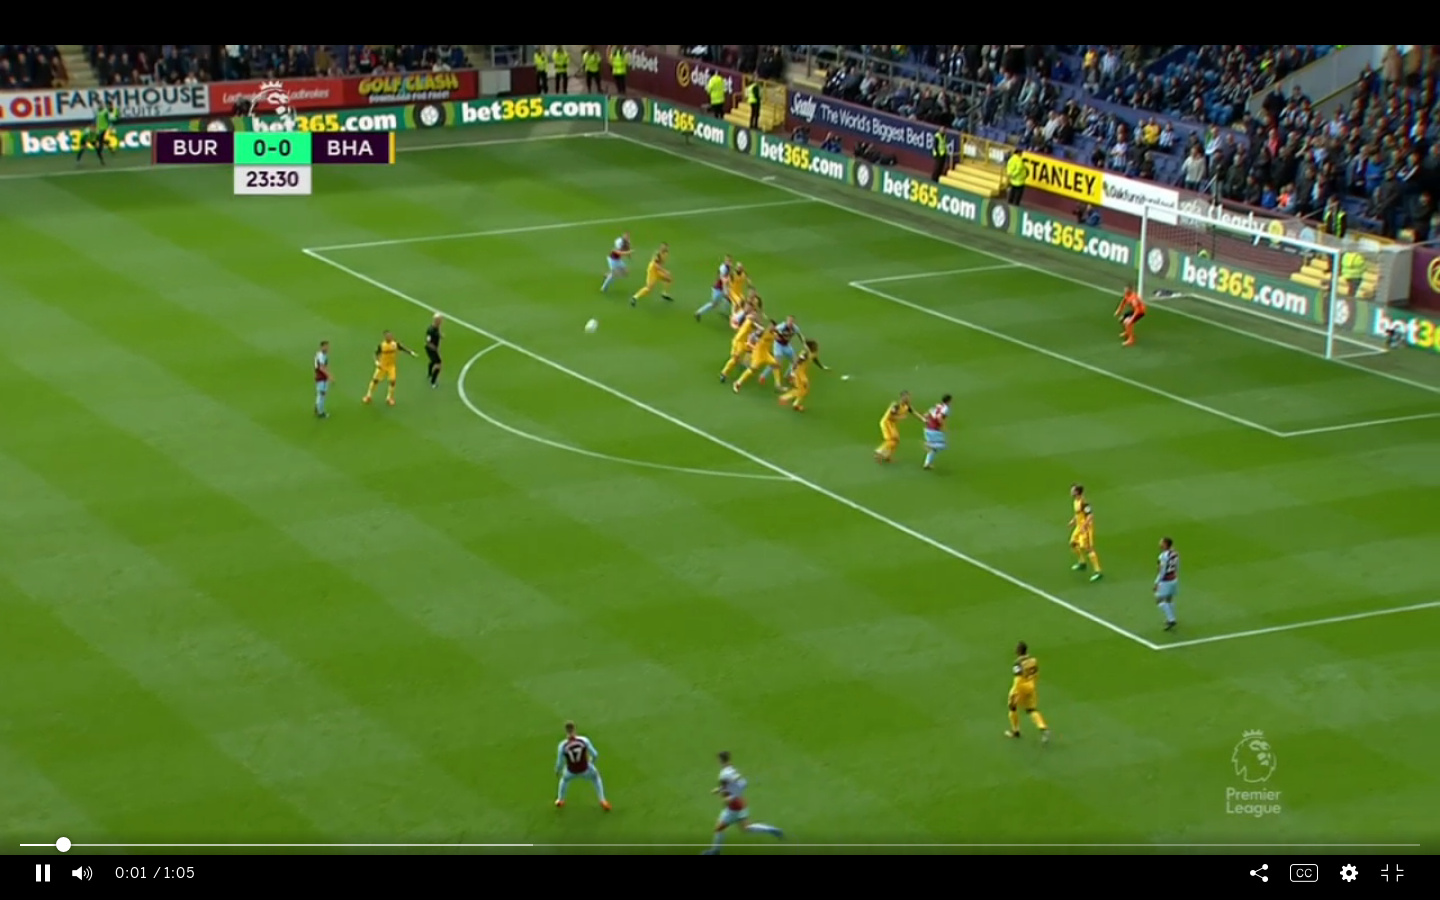referee: (421, 309, 448, 396)
soccer player: (702, 749, 790, 849), (552, 720, 616, 816), (1002, 639, 1053, 746), (1064, 483, 1107, 592), (728, 325, 787, 400), (1148, 532, 1187, 640), (359, 329, 410, 411), (787, 337, 835, 420), (870, 389, 922, 463), (919, 392, 958, 471), (1108, 282, 1152, 352), (635, 243, 676, 314), (307, 336, 336, 422), (772, 312, 808, 376), (704, 240, 730, 323), (601, 231, 635, 294), (730, 260, 748, 314)
soccerball: (582, 309, 602, 336)
